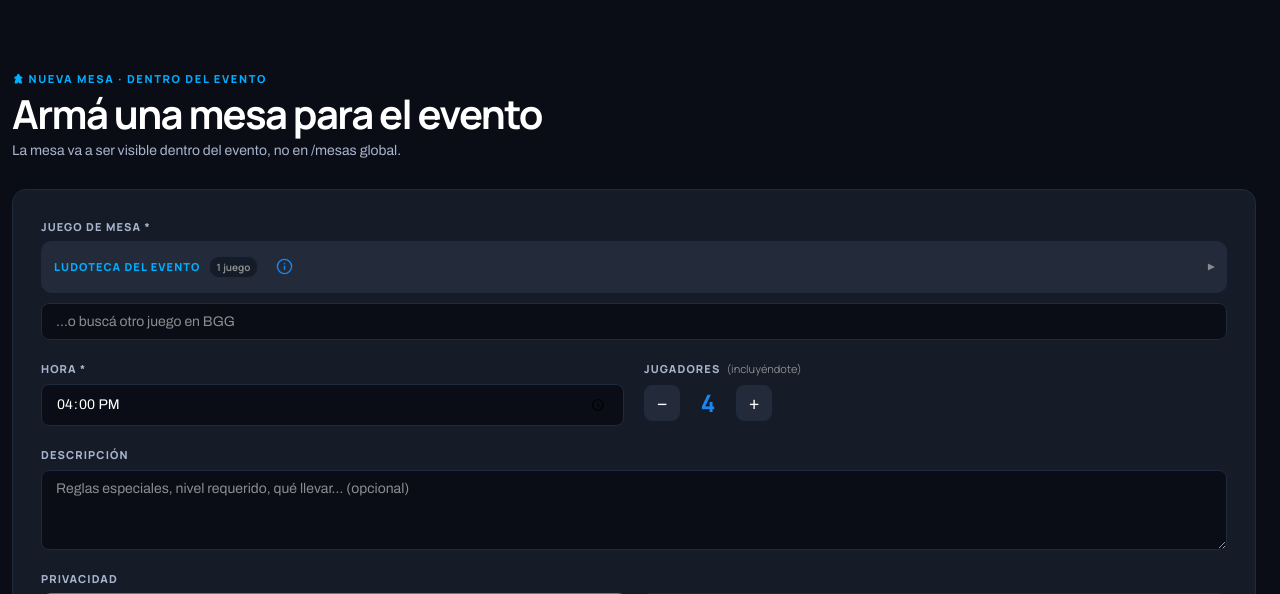
Test: <CreateTable> — Ludoteca picker (?evento=) › click en el header expande el acordeón y muestra los juegos
Click the button "Ludoteca del evento 1 juego ▾".
click(127, 267)  # box 54,254 -> 1214,280
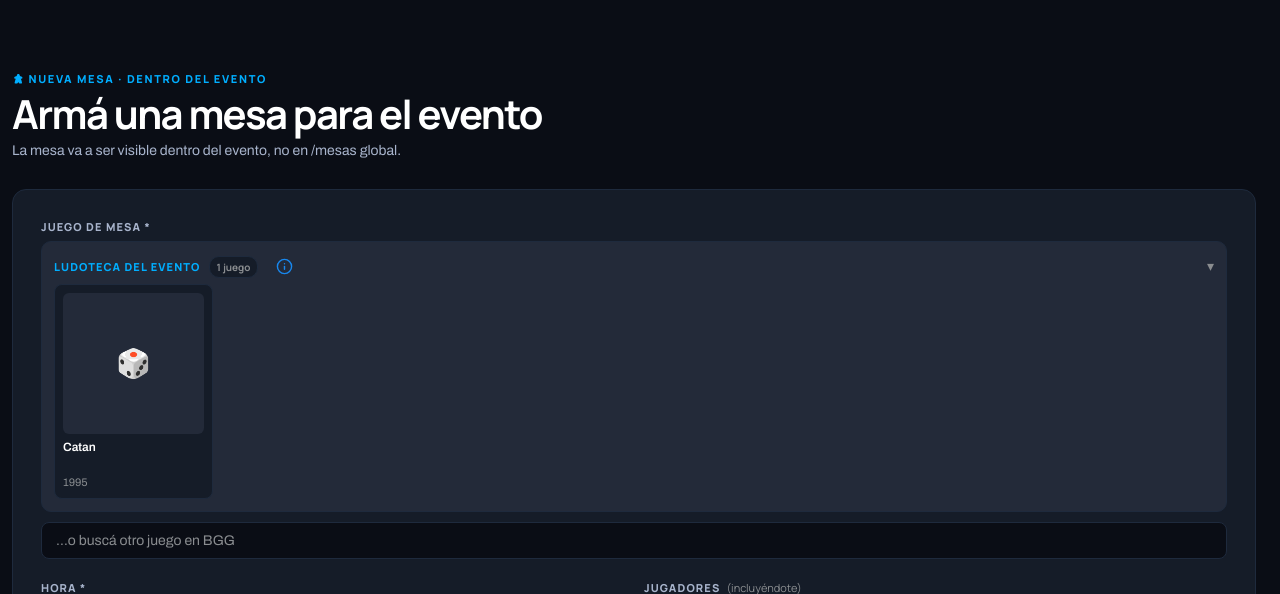
expect the button "Ludoteca del evento 1 juego ▾" is expanded: met, box 54,254 -> 1214,280
expect the text "Catan" is shown: met, box 63,440 -> 96,454
